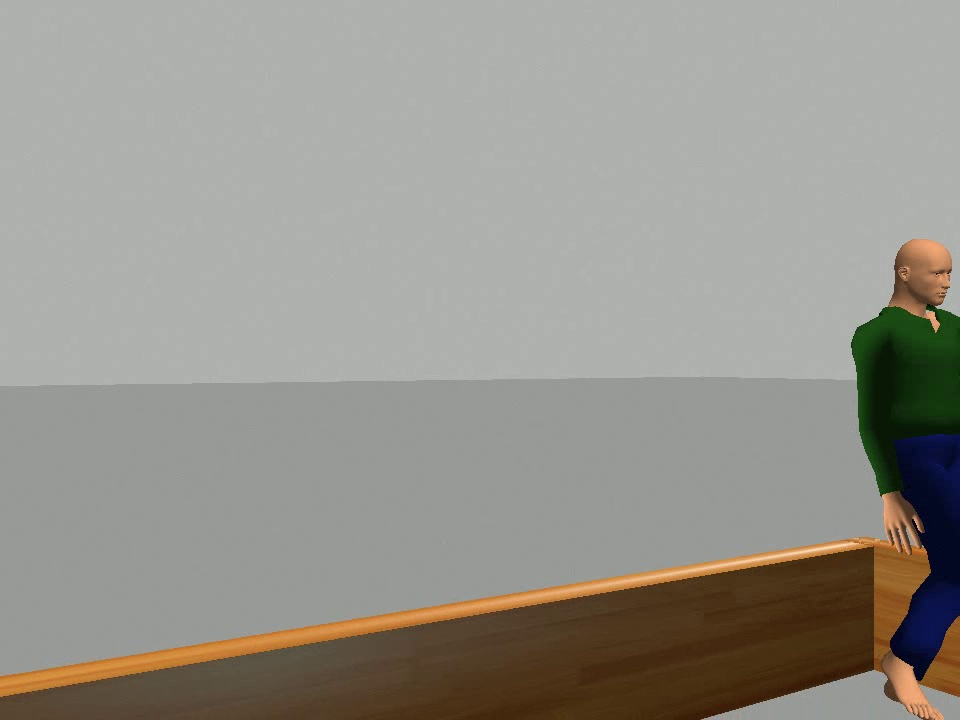person: (846, 235, 960, 720)
